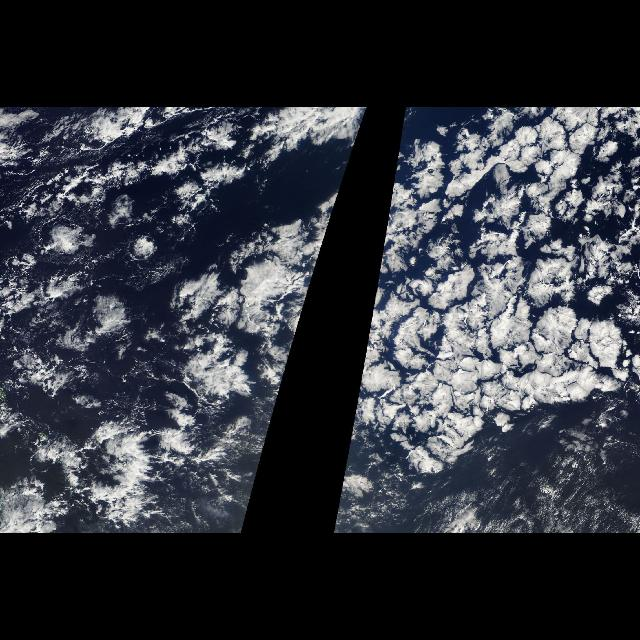Flower: (360, 108, 640, 476)
Sugar: (384, 477, 636, 528)
